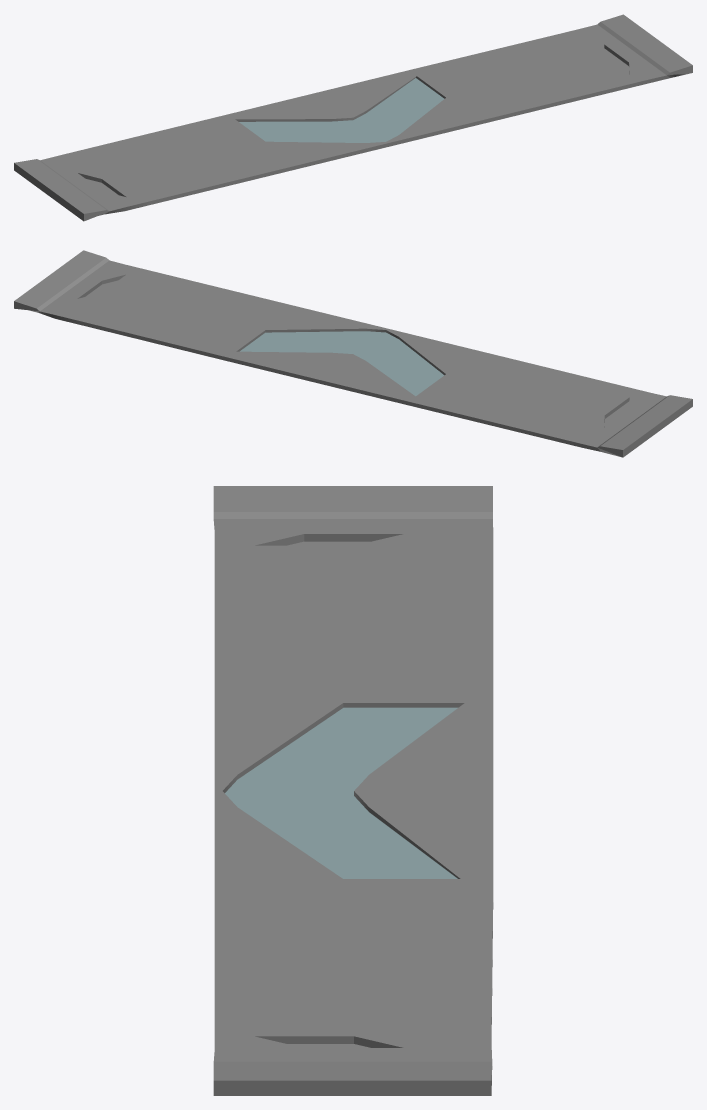
The model's file is BO_NewFrame_01 1.fbx.
The picture shows the model from 3 angles, top to bottom: view 1: azimuth 30°, elevation 25°; view 2: azimuth 150°, elevation 25°; view 3: azimuth 270°, elevation 25°; orthographic projection. The views are drawn at different scales.
Visible parts, largest first — view 1: BO_NewFrame_01; view 2: BO_NewFrame_01; view 3: BO_NewFrame_01.
Part boxes in pixels (left/top/right/bottom): BO_NewFrame_01: left=14, top=14, right=692, bottom=221; BO_NewFrame_01: left=14, top=250, right=692, bottom=457; BO_NewFrame_01: left=213, top=486, right=493, bottom=1095.
Bounding box in the file's own units: 5051 × 62.67 × 1004.
